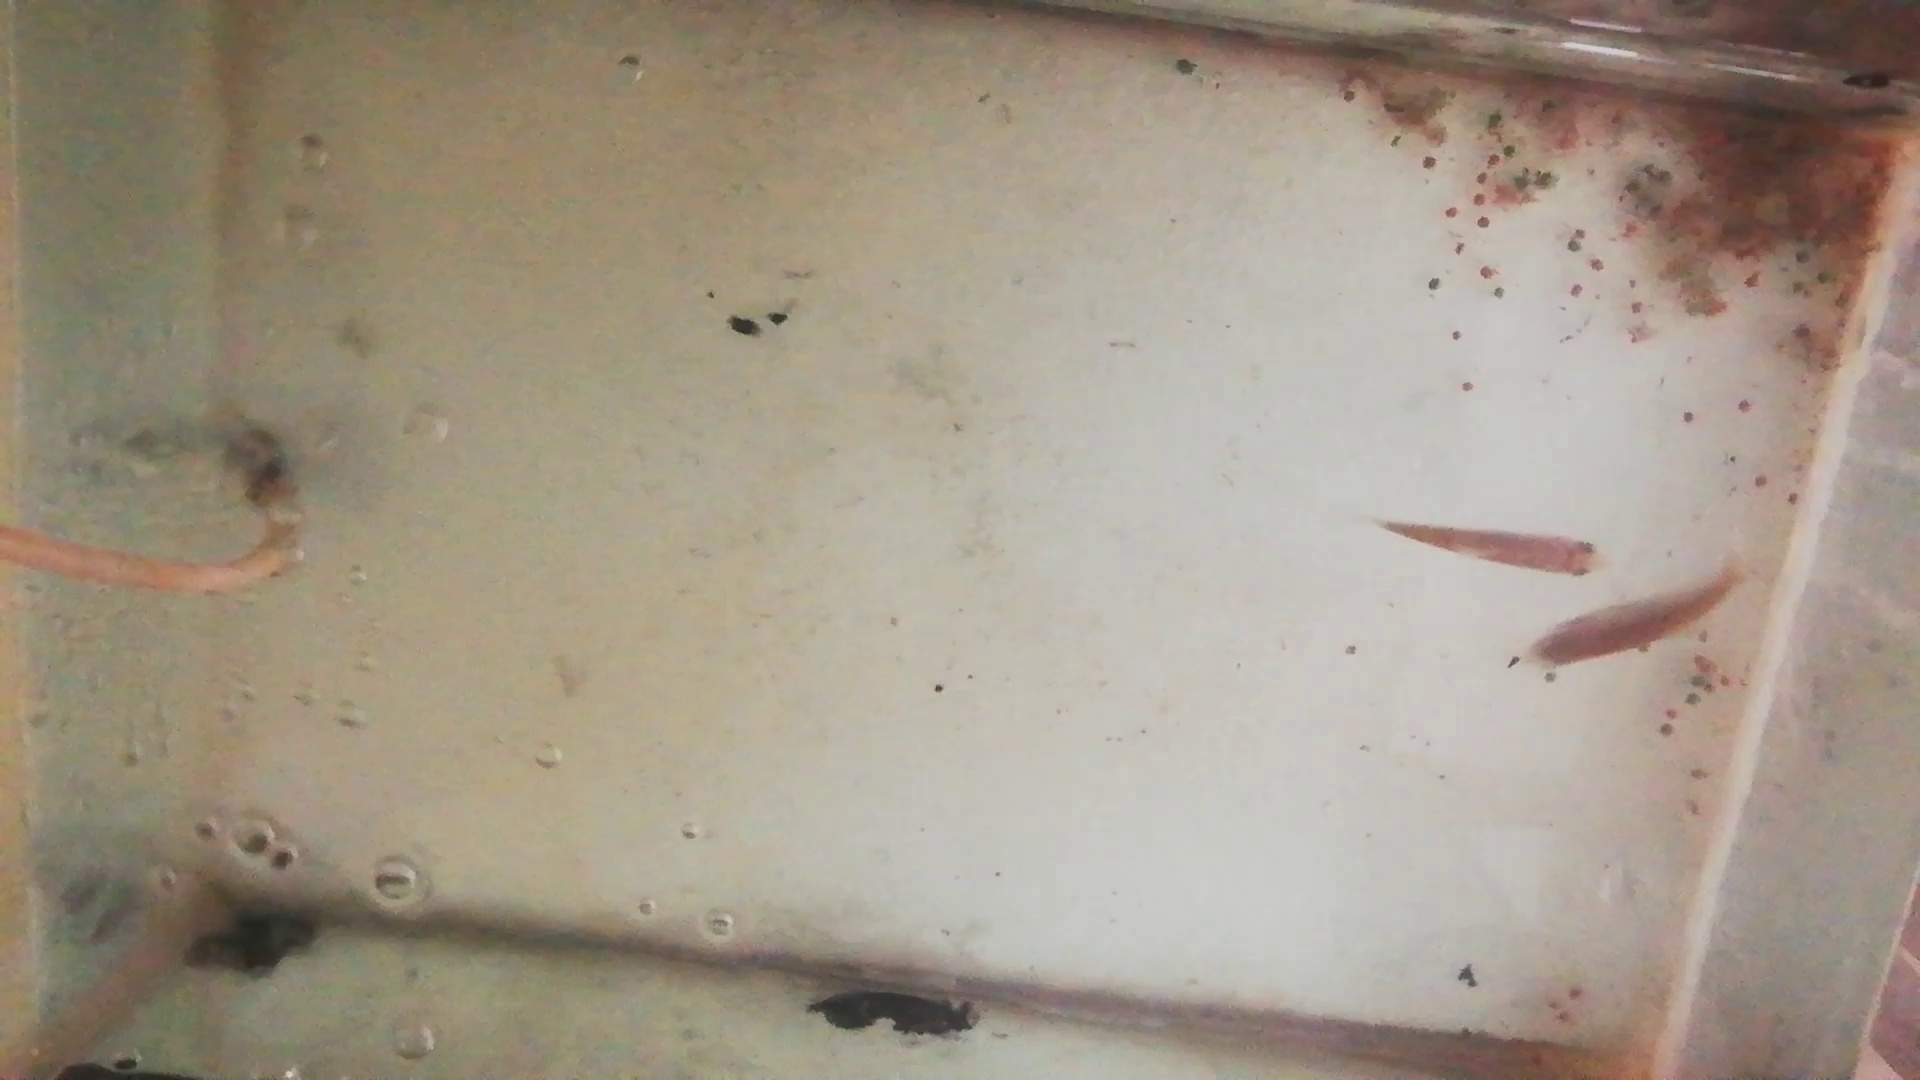fish: (1524, 579, 1731, 665), (1385, 517, 1606, 578)
